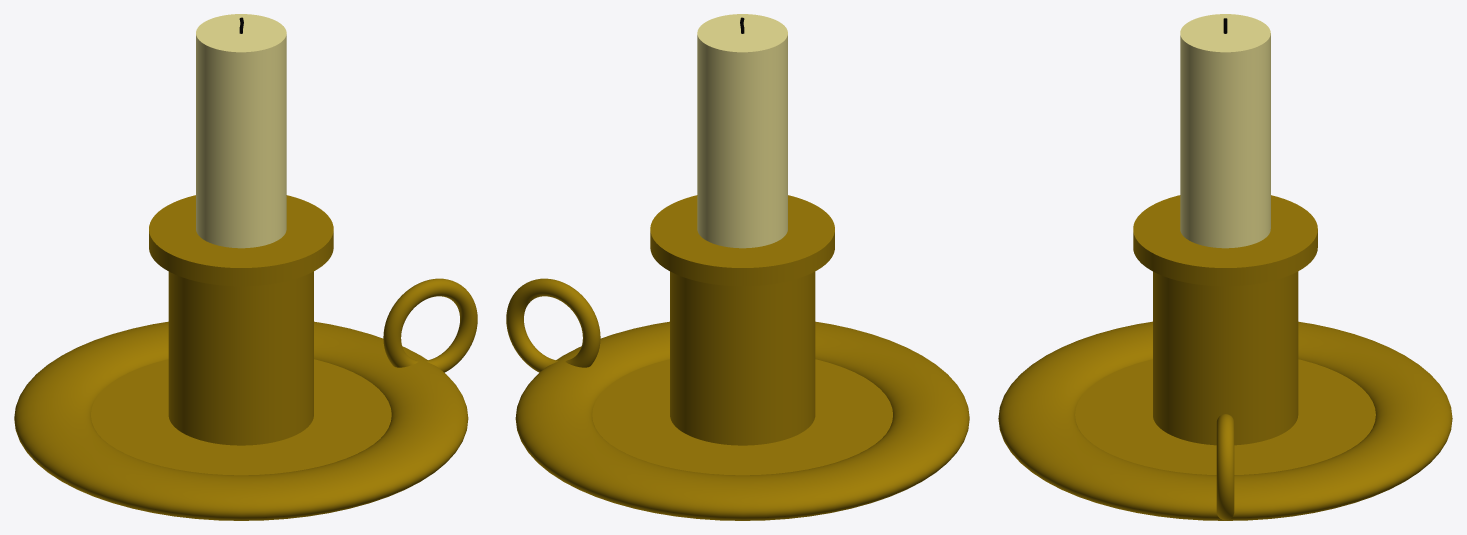
Rendered from vela.fbx.
The picture shows the model from 3 angles, left to right: view 1: azimuth 30°, elevation 25°; view 2: azimuth 150°, elevation 25°; view 3: azimuth 270°, elevation 25°; orthographic projection.
Parts seen in each view (by area): view 1: vela; view 2: vela; view 3: vela.
Boxes of the visible parts, <box> form: vela: <box>14,14,477,520</box>; vela: <box>506,14,969,520</box>; vela: <box>998,14,1452,520</box>.
Size of the model in its own units: 0.316 by 0.291 by 0.2878.
